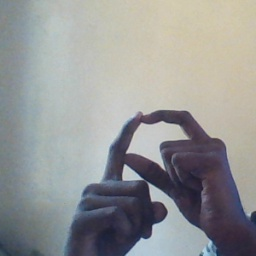D: (91, 104, 223, 213)
